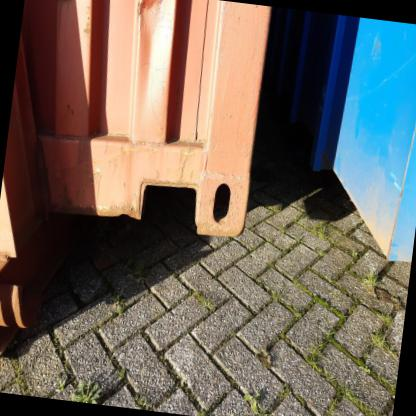CornerCasting: (191, 167, 255, 240)
